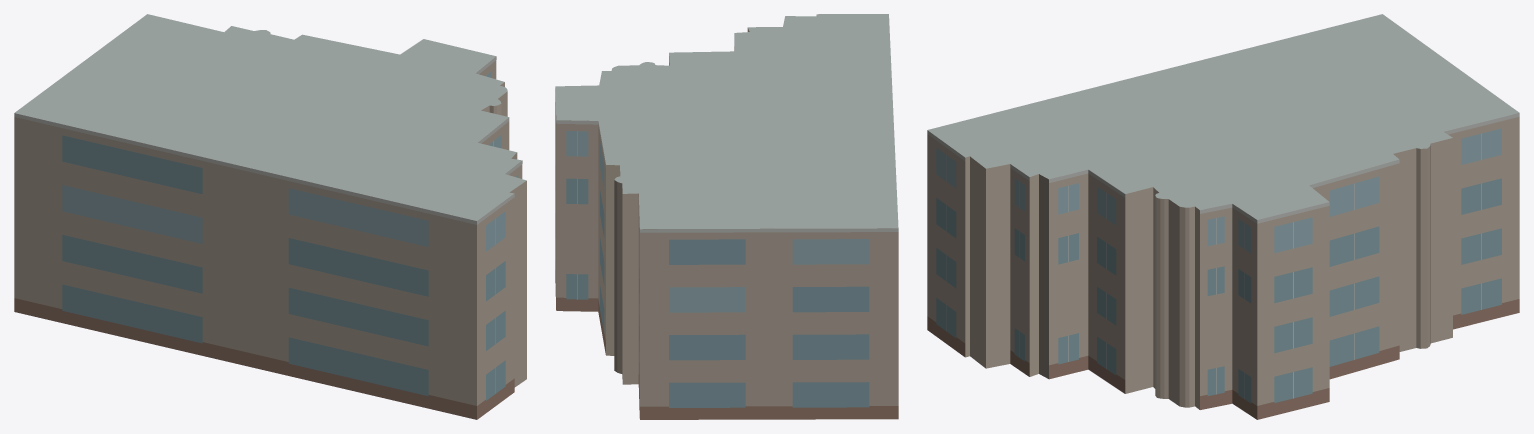
File: survey-upis-32918306.glb
3 renders of one model, left to right at view 1: azimuth 30°, elevation 25°; view 2: azimuth 150°, elevation 25°; view 3: azimuth 270°, elevation 25°, orthographic. The views are drawn at different scales.
Visible parts, largest first — view 1: survey-upis-32918306.tmp; view 2: survey-upis-32918306.tmp; view 3: survey-upis-32918306.tmp.
Boxes of the visible parts, bbox=[...] form: survey-upis-32918306.tmp: bbox=[14, 14, 526, 419]; survey-upis-32918306.tmp: bbox=[555, 14, 898, 419]; survey-upis-32918306.tmp: bbox=[927, 14, 1519, 419].
Size of the model in its own units: 28.52 by 12.9 by 34.66.
